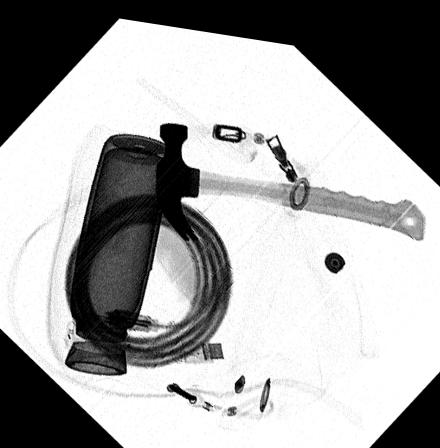Hammer: (153, 117, 425, 235)
